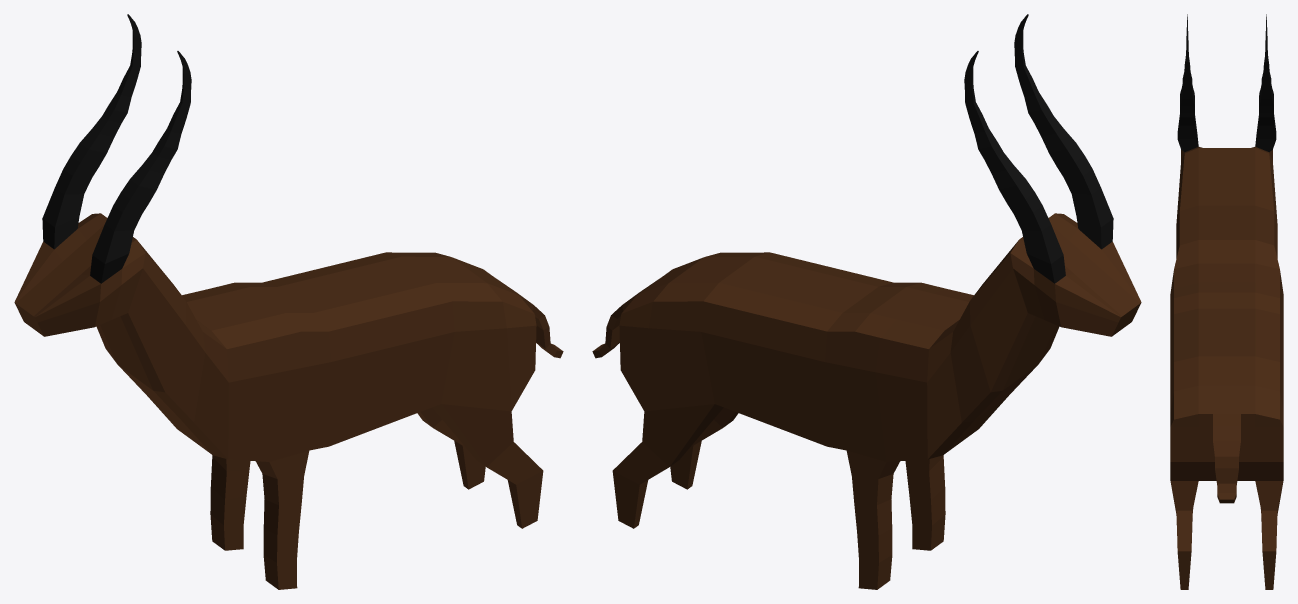
Rendered from dog.glb.
3 renders of one model, left to right at view 1: azimuth 30°, elevation 25°; view 2: azimuth 150°, elevation 25°; view 3: azimuth 270°, elevation 25°, orthographic. The views are drawn at different scales.
Parts seen in each view (by area): view 1: Cube, Cube.002; view 2: Cube, Cube.002; view 3: Cube, Cube.002.
Part boxes in pixels (x1,y1,x2,y2): Cube: [14, 213, 563, 589]; Cube.002: [42, 14, 191, 283]; Cube: [592, 213, 1141, 589]; Cube.002: [964, 14, 1113, 283]; Cube: [1170, 146, 1283, 589]; Cube.002: [1177, 14, 1276, 152].
Bounding box in the file's own units: 1.91 × 1.91 × 0.4426.
